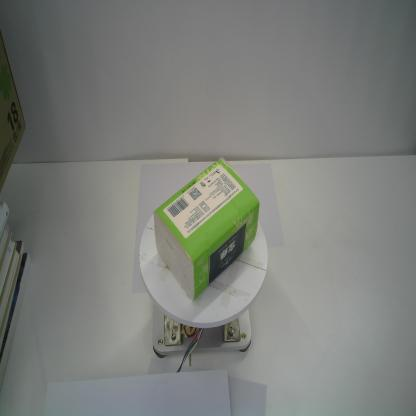Tissue: (152, 154, 261, 302)
